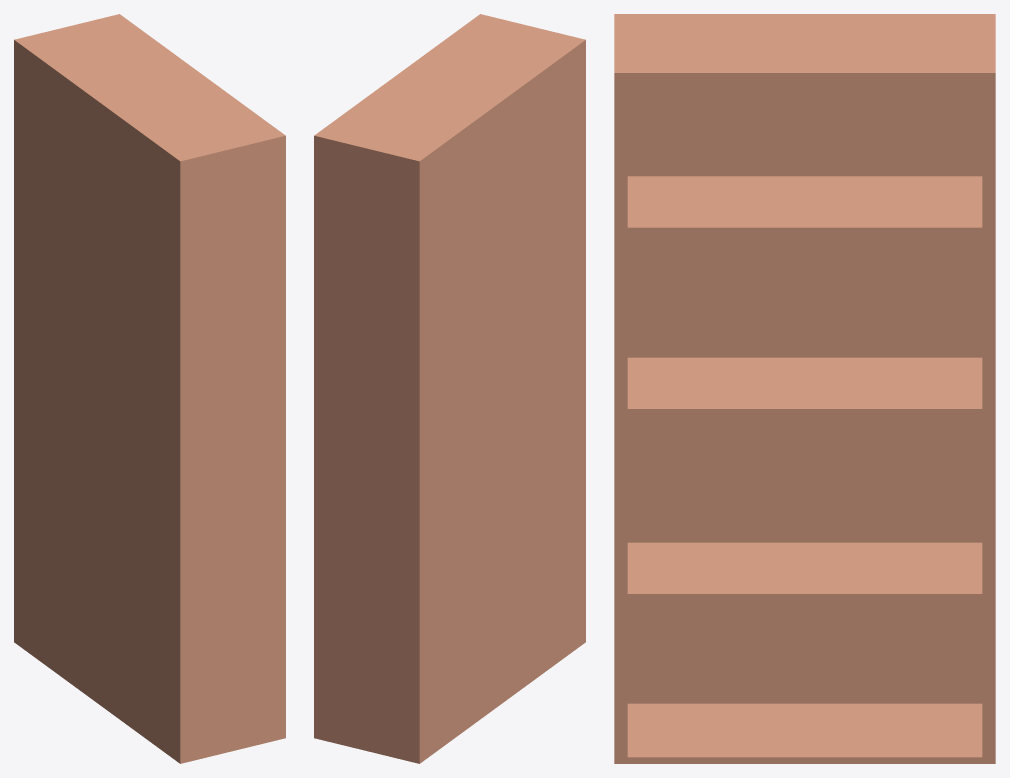
Rendered from shelf.fbx.
3 views of the same model, side by side, from view 1: azimuth 30°, elevation 25°; view 2: azimuth 150°, elevation 25°; view 3: azimuth 270°, elevation 25° (orthographic). The views are drawn at different scales.
Visible parts, largest first — view 1: Shelf; view 2: Shelf; view 3: Shelf.
Boxes of the visible parts, x1,y1,x2,y2 form: Shelf: (14,14,285,763); Shelf: (314,14,585,763); Shelf: (614,14,995,763).
Size of the model in its own units: 220 by 1200 by 600.
